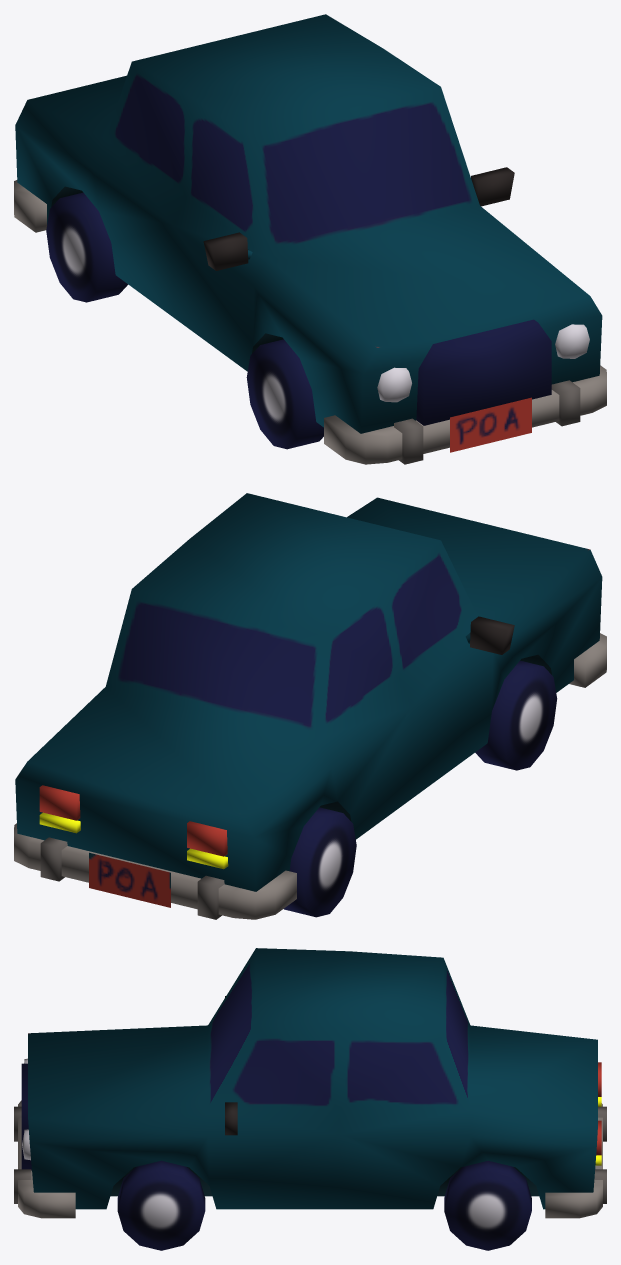
File: CGenerico_2.glb
3 views of the same model, one above another, from view 1: azimuth 30°, elevation 25°; view 2: azimuth 150°, elevation 25°; view 3: azimuth 270°, elevation 25° (orthographic). The views are drawn at different scales.
Parts seen in each view (by area): view 1: Generico; view 2: Generico; view 3: Generico.
Part boxes in pixels (x1,y1,x2,y2): Generico: (14, 14, 606, 464); Generico: (14, 493, 606, 919); Generico: (14, 948, 606, 1250).
Bounding box in the file's own units: 2.85 × 2.35 × 5.92.
1 material, 1 textured.
